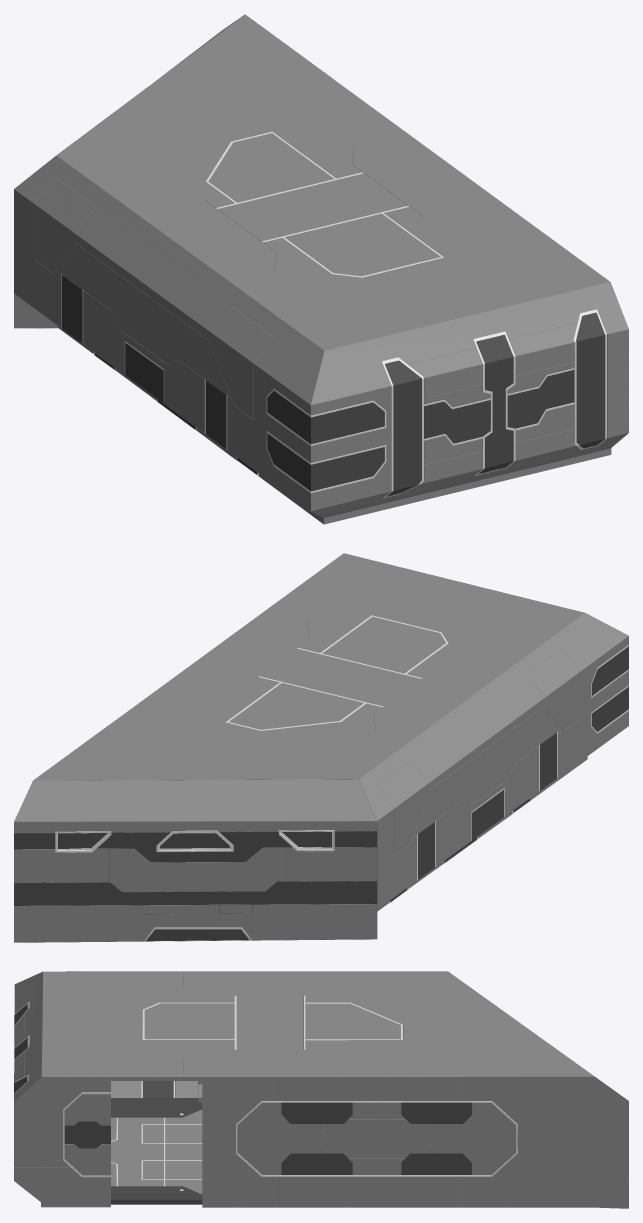
The model's file is Ship_Room_Kitchen_001.fbx.
3 views of the same model, one above another, from view 1: azimuth 30°, elevation 25°; view 2: azimuth 150°, elevation 25°; view 3: azimuth 270°, elevation 25° (orthographic). The views are drawn at different scales.
Parts seen in each view (by area): view 1: Ship_Room_Kitchen_Wall_Corner_001, Ship_Room_Kitchen_Ceiling_001, Ship_Room_Kitchen_Wall_Window_001; view 2: Ship_Room_Kitchen_Ceiling_001, Ship_Room_Kitchen_Wall_Window_001, Ship_Room_Kitchen_Wall_Corner_001; view 3: Ship_Room_Kitchen_Wall_Long_001, Ship_Room_Kitchen_Ceiling_001, Ship_Room_Kitchen_Floor_001, Ship_Room_Kitchen_Wall_Corner_001, Ship_Room_Kitchen_Wall_Window_001.
Part boxes in pixels (bbox=[...]): Ship_Room_Kitchen_Wall_Corner_001: bbox=[14, 155, 628, 524]; Ship_Room_Kitchen_Ceiling_001: bbox=[57, 14, 609, 350]; Ship_Room_Kitchen_Wall_Window_001: bbox=[14, 14, 244, 328]; Ship_Room_Kitchen_Ceiling_001: bbox=[33, 553, 584, 780]; Ship_Room_Kitchen_Wall_Window_001: bbox=[14, 779, 377, 942]; Ship_Room_Kitchen_Wall_Corner_001: bbox=[345, 553, 628, 911]; Ship_Room_Kitchen_Wall_Long_001: bbox=[14, 1074, 628, 1207]; Ship_Room_Kitchen_Ceiling_001: bbox=[42, 971, 594, 1081]; Ship_Room_Kitchen_Floor_001: bbox=[111, 1098, 202, 1204]; Ship_Room_Kitchen_Wall_Corner_001: bbox=[14, 971, 444, 1193]; Ship_Room_Kitchen_Wall_Window_001: bbox=[449, 972, 628, 1208].
Size of the model in its own units: 915 by 480 by 2024.
